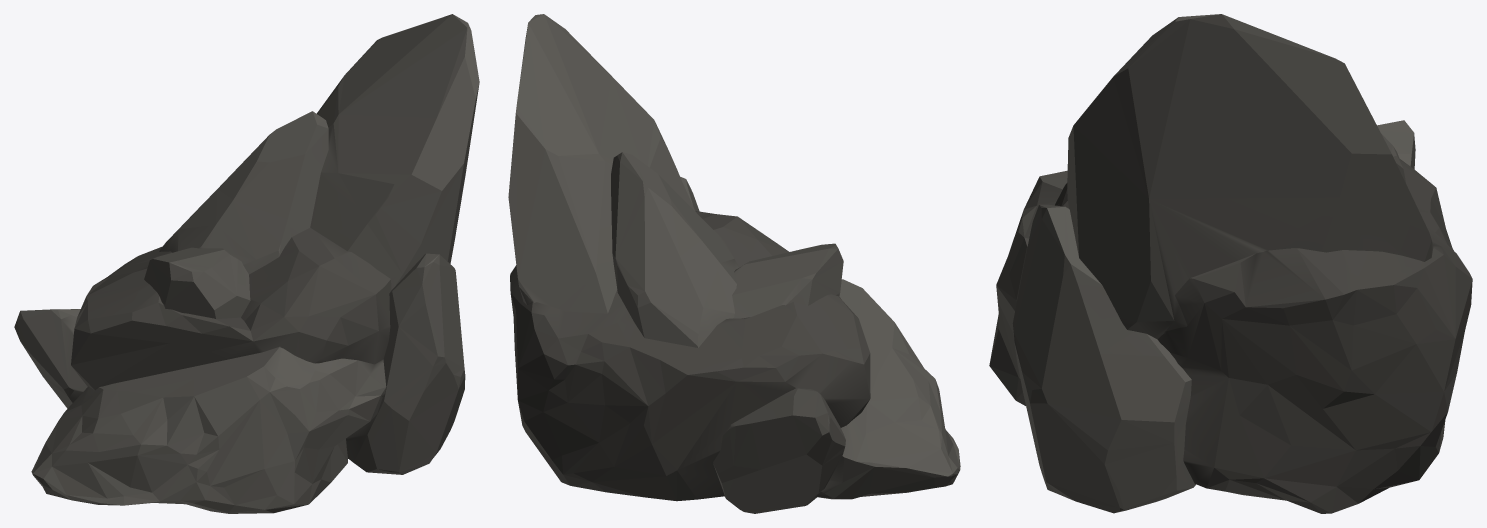
The model's file is SM_Env_Rock_010.fbx.
The picture shows the model from 3 angles, left to right: view 1: azimuth 30°, elevation 25°; view 2: azimuth 150°, elevation 25°; view 3: azimuth 270°, elevation 25°; orthographic projection. The views are drawn at different scales.
Visible parts, largest first — view 1: SM_Env_Rock_010; view 2: SM_Env_Rock_010; view 3: SM_Env_Rock_010.
Part boxes in pixels (x1,y1,x2,y2): SM_Env_Rock_010: (14,14,479,513); SM_Env_Rock_010: (508,14,960,513); SM_Env_Rock_010: (989,14,1472,513).
Size of the model in its own units: 1616 by 1468 by 1134.
1 material, 1 textured.
